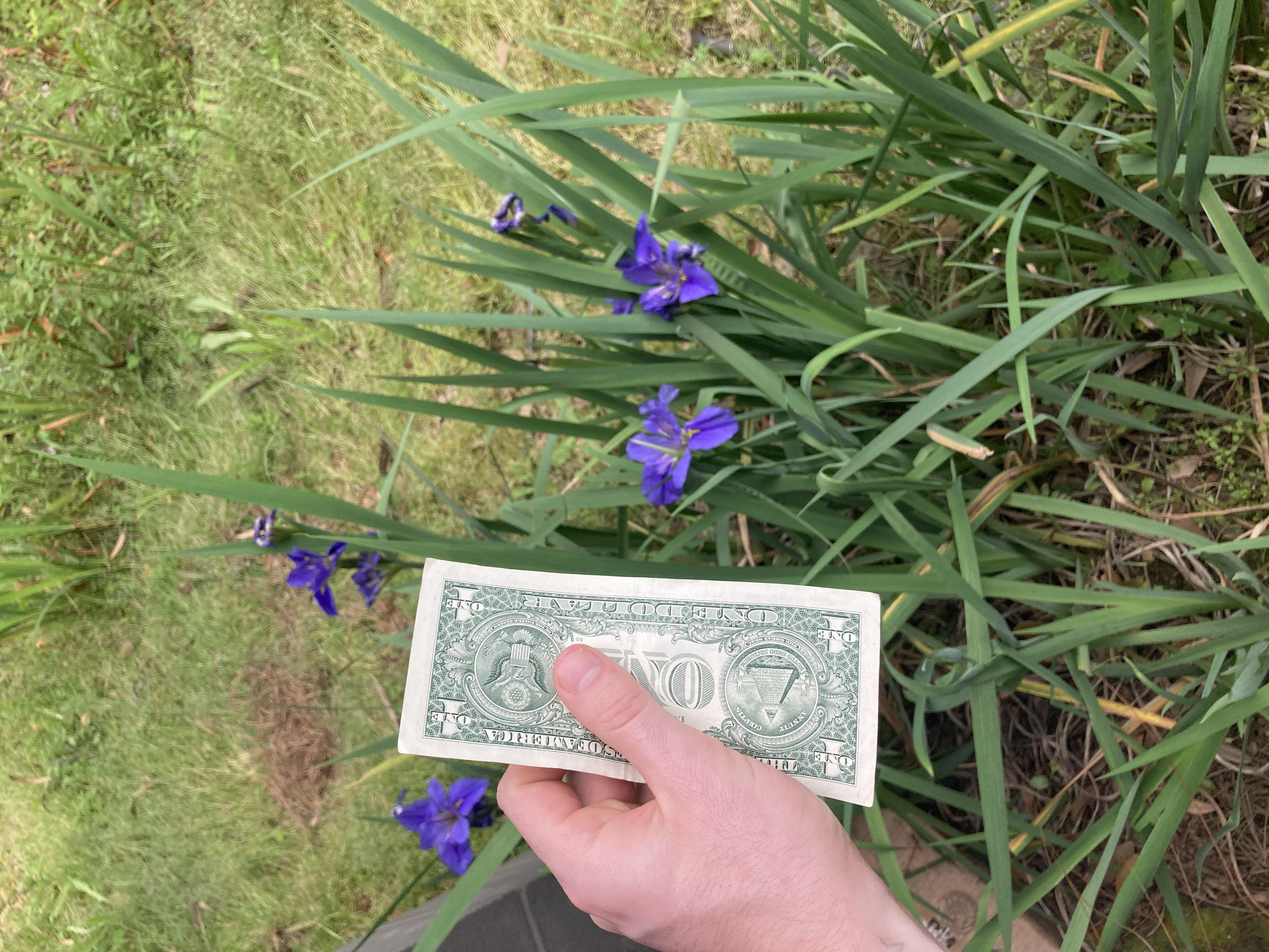one-back: (192, 298, 529, 662)
